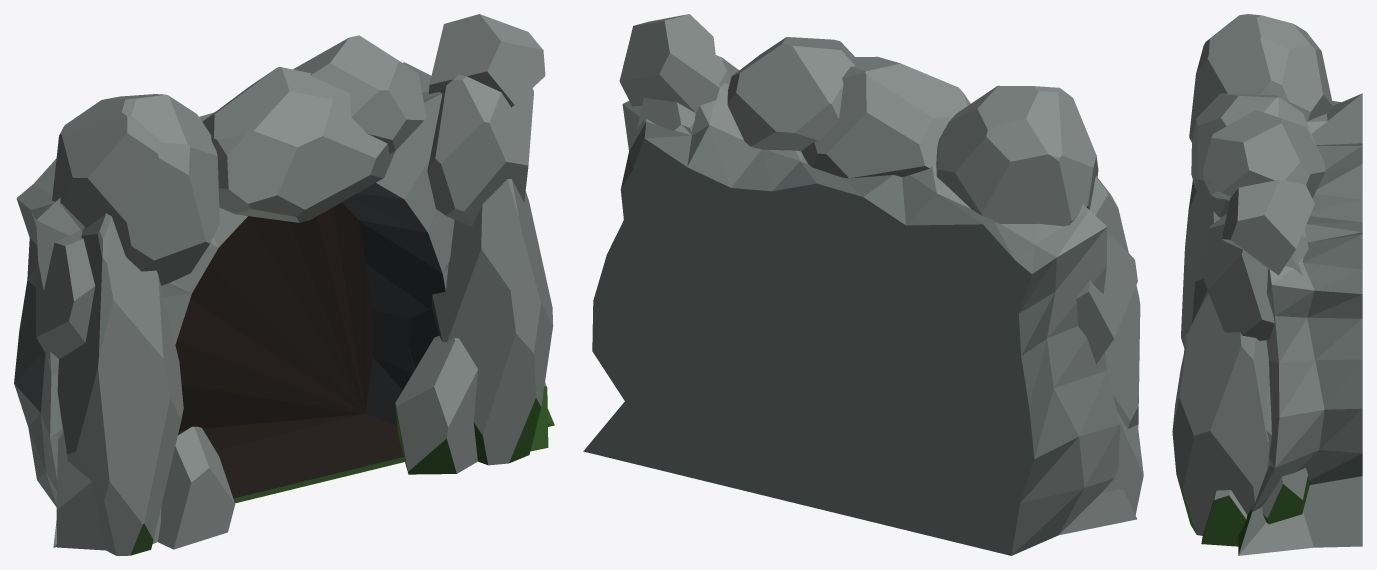
File: smuggler-cave-mouth-69a07e.glb
3 renders of one model, left to right at view 1: azimuth 30°, elevation 25°; view 2: azimuth 150°, elevation 25°; view 3: azimuth 270°, elevation 25°, orthographic. The views are drawn at different scales.
Parts seen in each view (by area): view 1: cave-mouth; view 2: cave-mouth; view 3: cave-mouth.
Part boxes in pixels (box(x1,y1,x2,y2)): cave-mouth: box(14, 14, 554, 555); cave-mouth: box(583, 14, 1143, 555); cave-mouth: box(1172, 14, 1362, 555).
Bounding box in the file's own units: 5.02 × 3.99 × 1.88.
